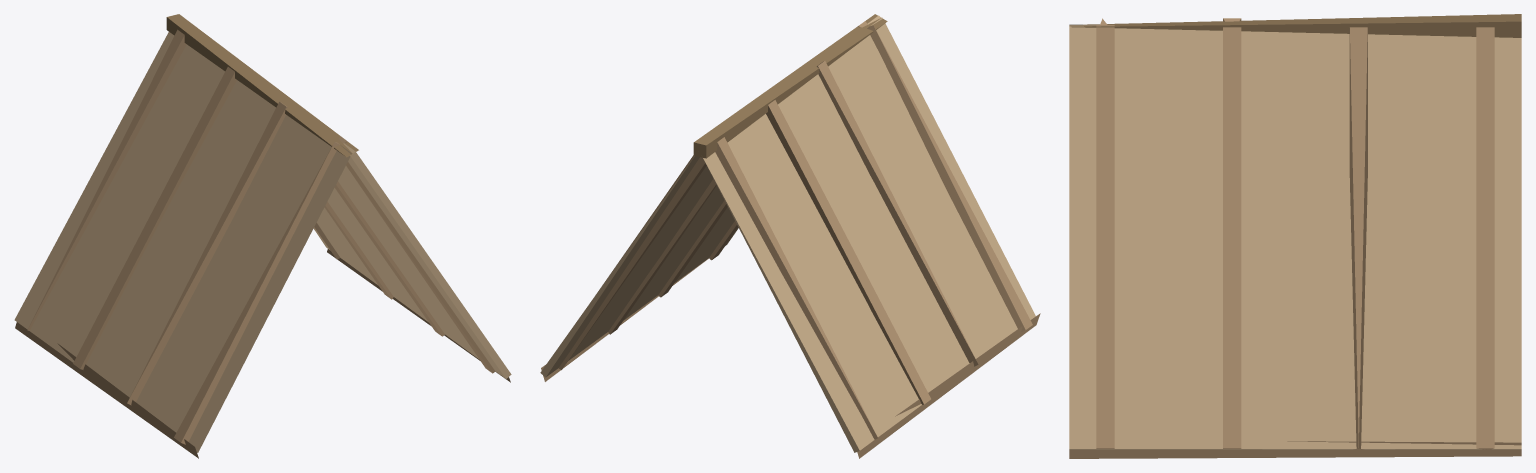
Rendered from 18-Casas_techo_dos_aguas.glb.
The picture shows the model from 3 angles, left to right: view 1: azimuth 30°, elevation 25°; view 2: azimuth 150°, elevation 25°; view 3: azimuth 270°, elevation 25°; orthographic projection. The views are drawn at different scales.
Parts seen in each view (by area): view 1: SM_Techo_M_Techo_Tablero, SM_Techo_M_Techo_Madera_Med, SM_Techo_M_Techo_Madera_Osc; view 2: SM_Techo_M_Techo_Tablero, SM_Techo_M_Techo_Madera_Med, SM_Techo_M_Techo_Madera_Osc; view 3: SM_Techo_M_Techo_Tablero, SM_Techo_M_Techo_Madera_Med, SM_Techo_M_Techo_Madera_Osc.
Boxes of the visible parts, <box> form: SM_Techo_M_Techo_Tablero: <box>14,32,511,452</box>; SM_Techo_M_Techo_Madera_Med: <box>15,29,510,458</box>; SM_Techo_M_Techo_Madera_Osc: <box>166,14,358,157</box>; SM_Techo_M_Techo_Tablero: <box>540,15,1035,452</box>; SM_Techo_M_Techo_Madera_Med: <box>541,21,1040,458</box>; SM_Techo_M_Techo_Madera_Osc: <box>693,14,887,158</box>; SM_Techo_M_Techo_Tablero: <box>1069,24,1521,449</box>; SM_Techo_M_Techo_Madera_Med: <box>1069,18,1521,458</box>; SM_Techo_M_Techo_Madera_Osc: <box>1069,14,1521,37</box>.
Bounding box in the file's own units: 1.03 × 0.84 × 1.
